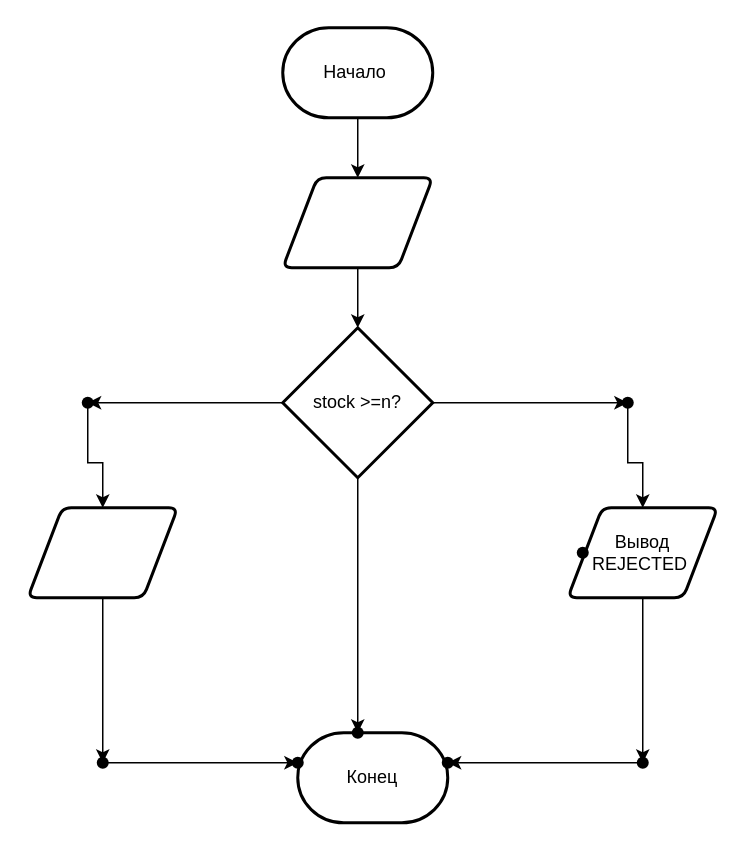
The diagram is 744 pixels wide and 849 high, and some of its shapes have lost their labels. The shapes that lost their labels are listed below. From the top down, each one's centre as x and y in pixels, then its label:
point (357, 222): Ввод n, stock
point (102, 552): Вывод APPROVED
